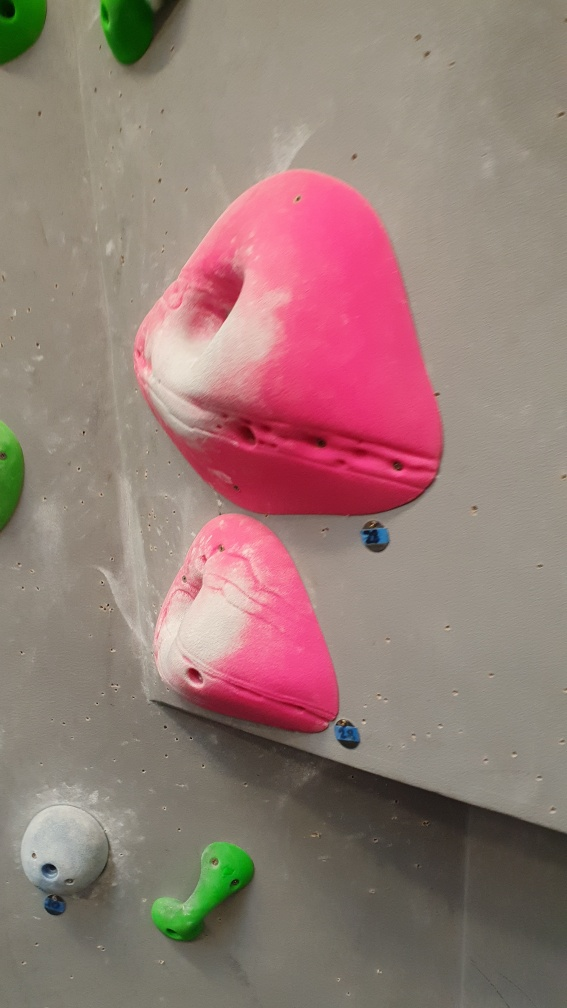Hand Start: (356, 518, 394, 557), (336, 716, 364, 752), (40, 894, 69, 920)
Pocket: (125, 165, 447, 519), (147, 504, 343, 736)
Sloper: (21, 800, 112, 897)
